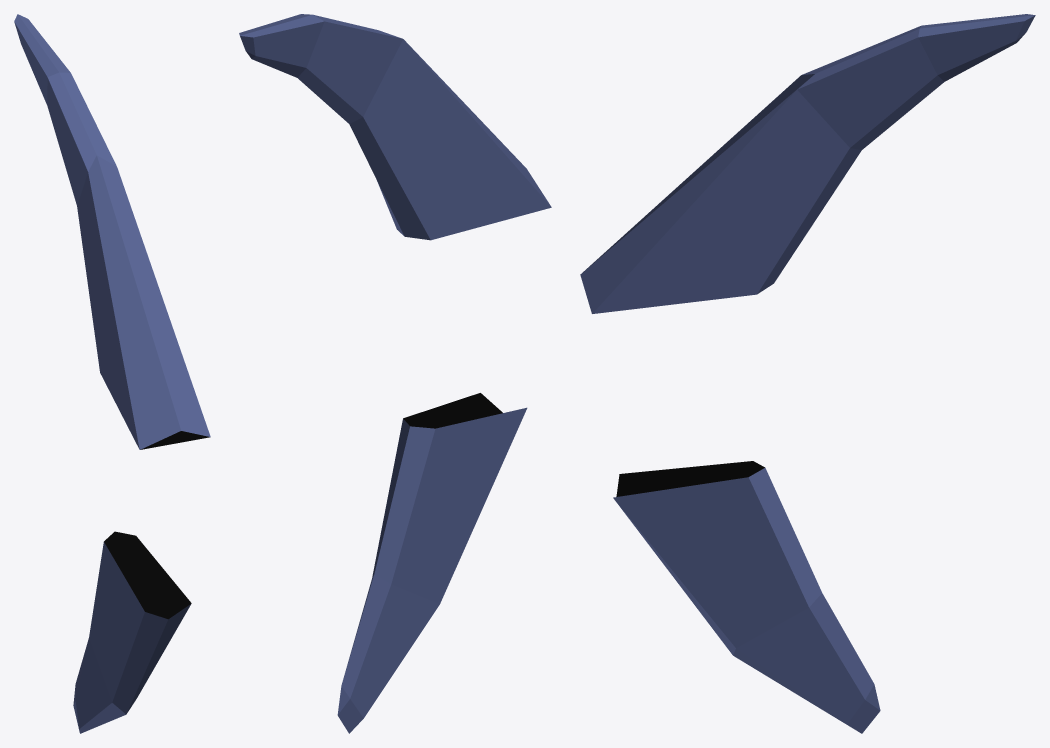
Rendered from TailPickUp.fbx.
3 renders of one model, left to right at view 1: azimuth 30°, elevation 25°; view 2: azimuth 150°, elevation 25°; view 3: azimuth 270°, elevation 25°, orthographic. The views are drawn at different scales.
Visible parts, largest first — view 1: TailPickup; view 2: TailPickup; view 3: TailPickup.
Part boxes in pixels (x1,y1,x2,y2): TailPickup: [14, 14, 210, 733]; TailPickup: [239, 14, 551, 733]; TailPickup: [580, 14, 1035, 733].
Bounding box in the file's own units: 18.38 × 145 × 82.17.
